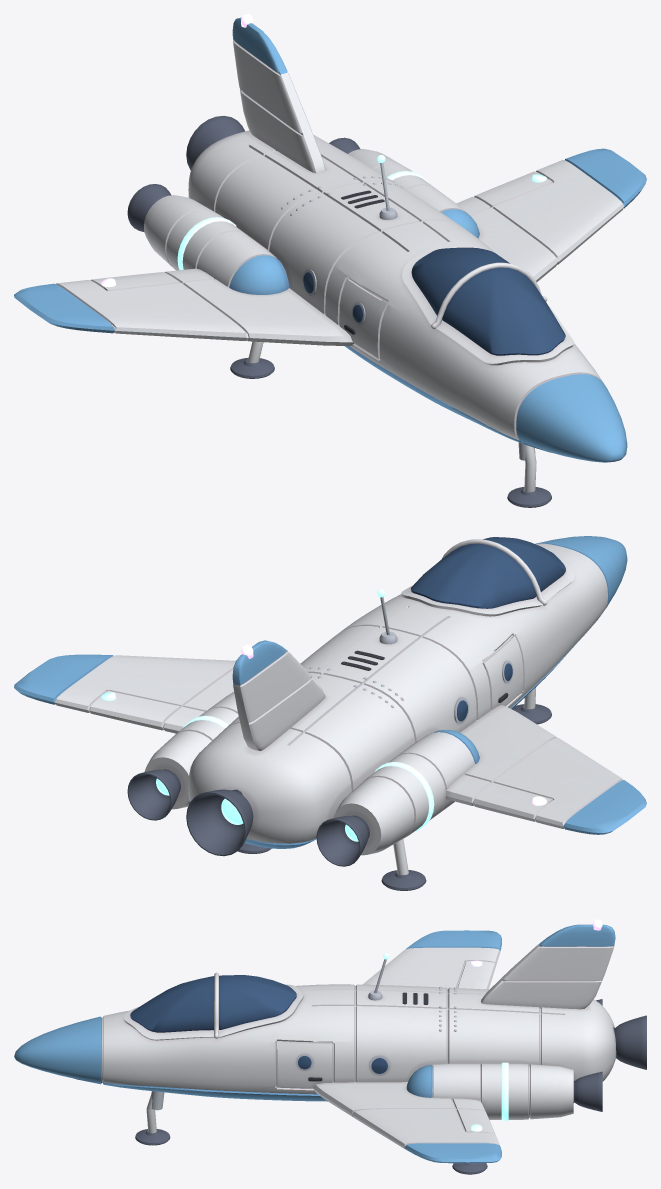
The model's file is alien-spaceship.glb.
The picture shows the model from 3 angles, top to bottom: view 1: azimuth 30°, elevation 25°; view 2: azimuth 150°, elevation 25°; view 3: azimuth 270°, elevation 25°; orthographic projection. The views are drawn at different scales.
Parts seen in each view (by area): view 1: sci-fi-spaceship_body, sci-fi-spaceship_gear_nose, sci-fi-spaceship_gear_right; view 2: sci-fi-spaceship_body, sci-fi-spaceship_gear_right, sci-fi-spaceship_gear_nose, sci-fi-spaceship_engine_glow, sci-fi-spaceship_pod_ring_glow_r; view 3: sci-fi-spaceship_body, sci-fi-spaceship_gear_nose, sci-fi-spaceship_pod_ring_glow_l.
Part boxes in pixels (left/top/right/bottom): sci-fi-spaceship_body: left=14, top=17, right=646, bottom=462; sci-fi-spaceship_gear_nose: left=507, top=442, right=551, bottom=507; sci-fi-spaceship_gear_right: left=230, top=341, right=274, bottom=378; sci-fi-spaceship_body: left=14, top=536, right=646, bottom=866; sci-fi-spaceship_gear_right: left=381, top=839, right=426, bottom=890; sci-fi-spaceship_gear_nose: left=512, top=687, right=551, bottom=724; sci-fi-spaceship_engine_glow: left=156, top=778, right=358, bottom=841; sci-fi-spaceship_pod_ring_glow_r: left=375, top=762, right=434, bottom=831; sci-fi-spaceship_body: left=14, top=924, right=646, bottom=1163; sci-fi-spaceship_gear_nose: left=135, top=1091, right=170, bottom=1145; sci-fi-spaceship_pod_ring_glow_l: left=501, top=1062, right=508, bottom=1120.
Bounding box in the file's own units: 12.4 × 5.47 × 14.37.
Materials: 17 (1 with a texture image).
